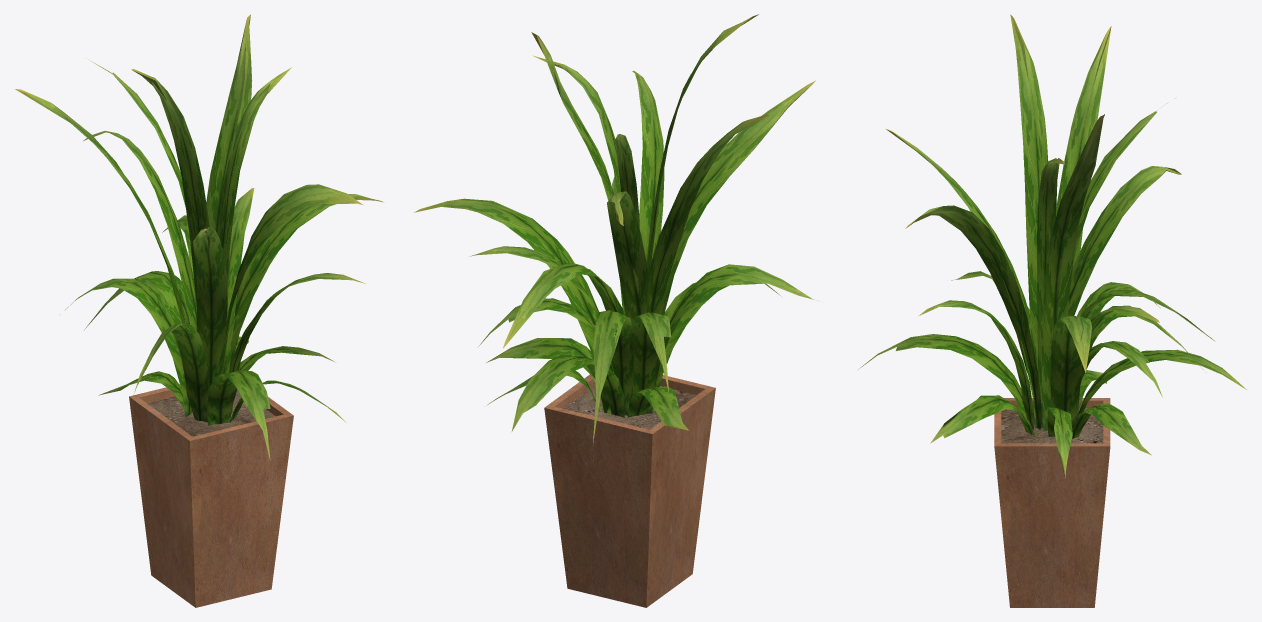
The model's file is Plant 2.fbx.
The picture shows the model from 3 angles, left to right: view 1: azimuth 30°, elevation 25°; view 2: azimuth 150°, elevation 25°; view 3: azimuth 270°, elevation 25°; orthographic projection. The views are drawn at different scales.
Parts seen in each view (by area): view 1: Plant 2; view 2: Plant 2; view 3: Plant 2.
Part boxes in pixels (<box>): Plant 2: <box>15,14,383,607</box>; Plant 2: <box>414,14,819,607</box>; Plant 2: <box>858,14,1246,607</box>.
Size of the model in its own units: 62.59 by 92.87 by 62.5.
Materials: 2 (2 with a texture image).
